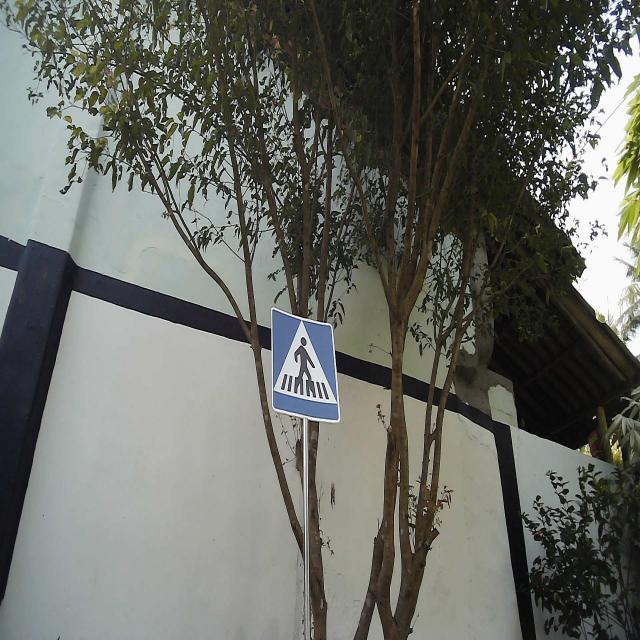crosswalk_sign: (269, 305, 343, 426)
